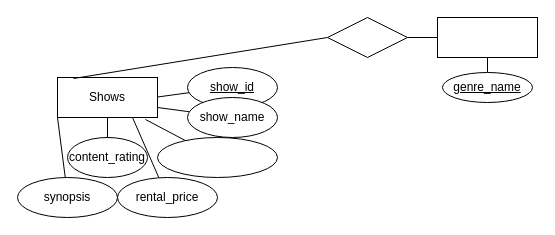
This 555x235 diagram has some shape labels left out. Here are the shapes that lost their labels. From the top down, the centre of each, then its label:
the point at 367,37: has
the point at 487,37: Genres
the point at 217,157: production_company
